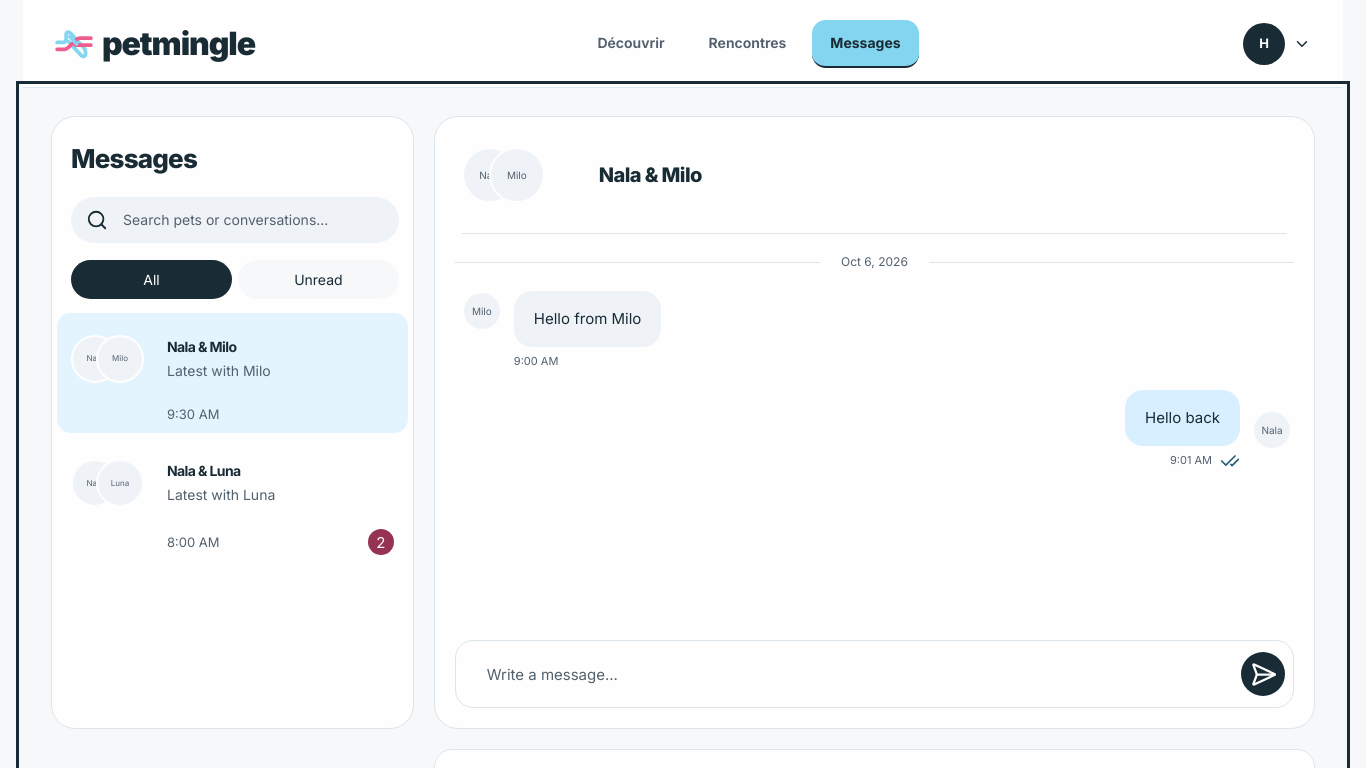
Test: Messaging persisted reads › prevents duplicate submissions while a send is pending
Expected: the text "Hello from Milo" is shown, [514,291,661,347]
Type "Only once" into the field labelled "Write a message" at (848, 674), box [464,650,1233,698]
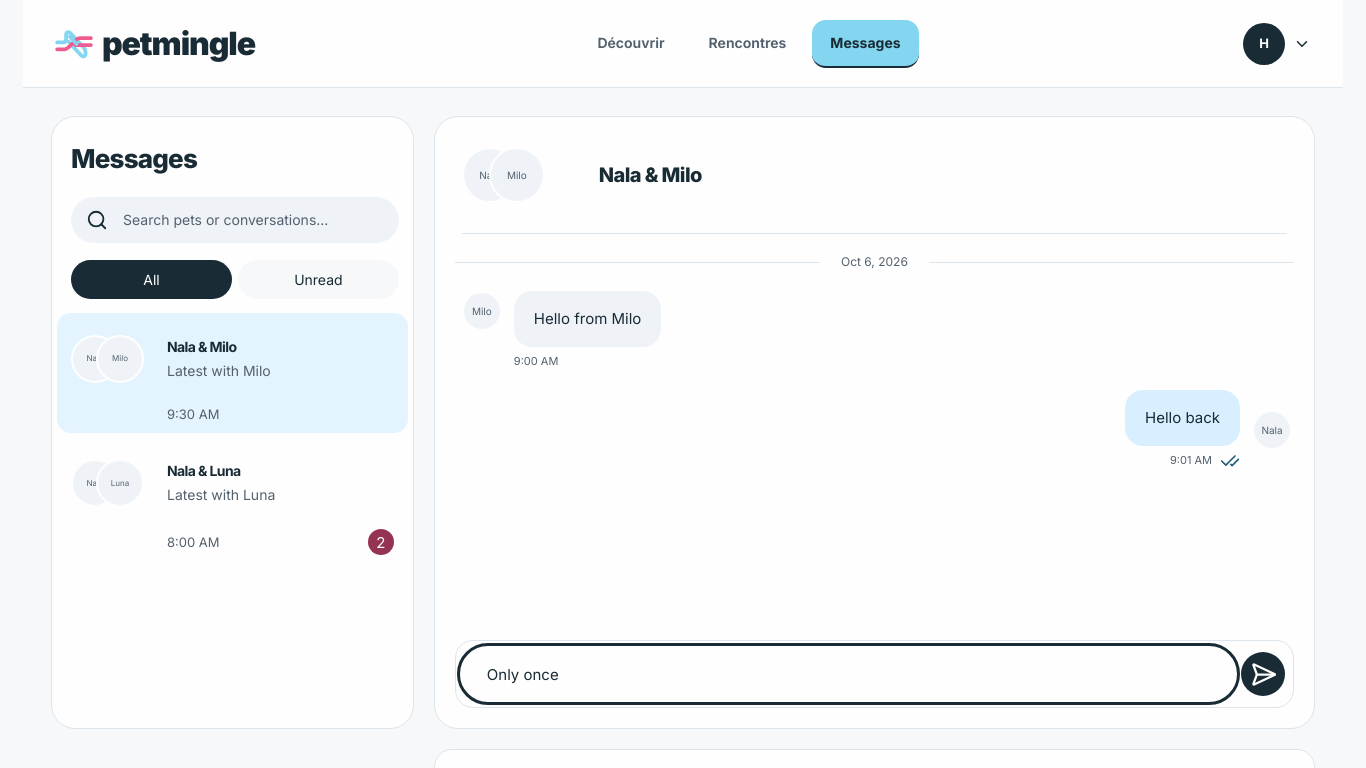
Click the button named "Send message" at (1263, 674), box [1241,652,1285,696]
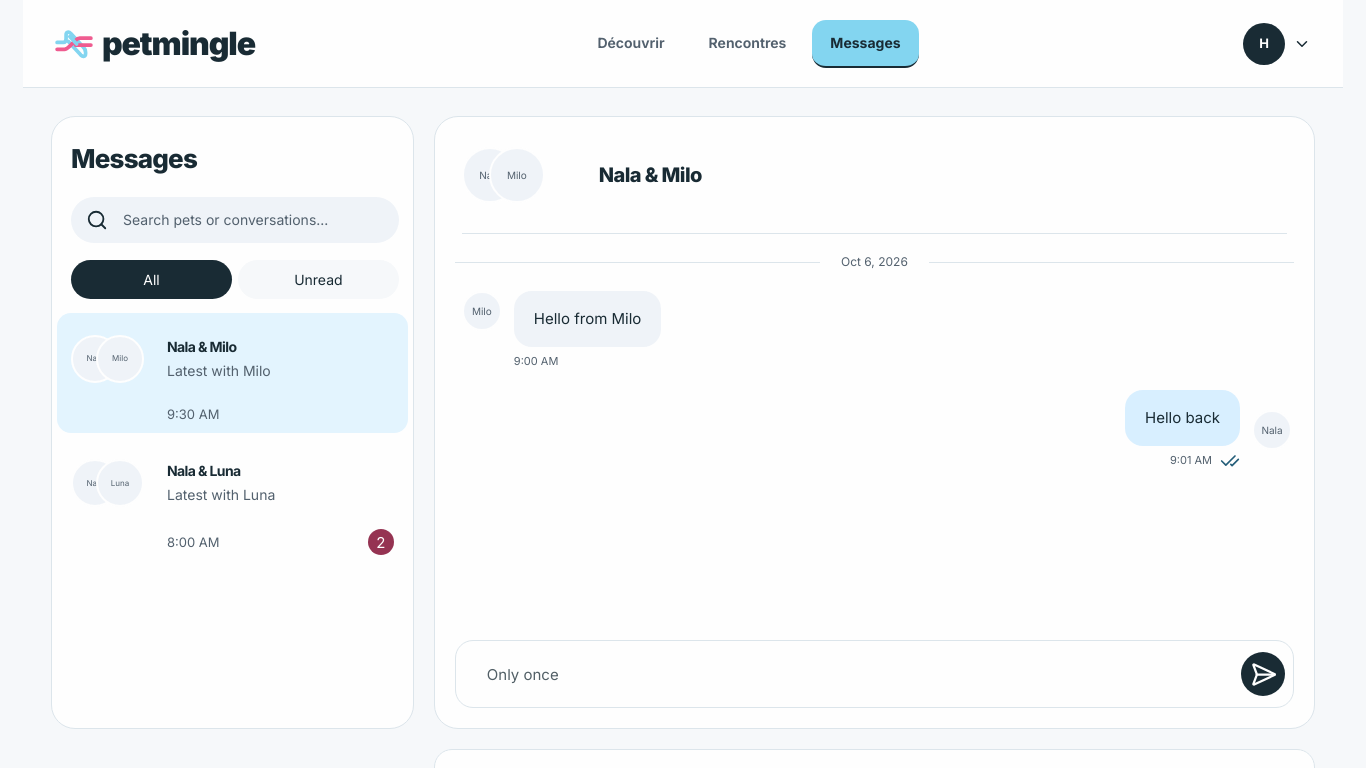
Click the button named "Sending message" at (1263, 674), box [1241,652,1285,696]
(page scrolled)
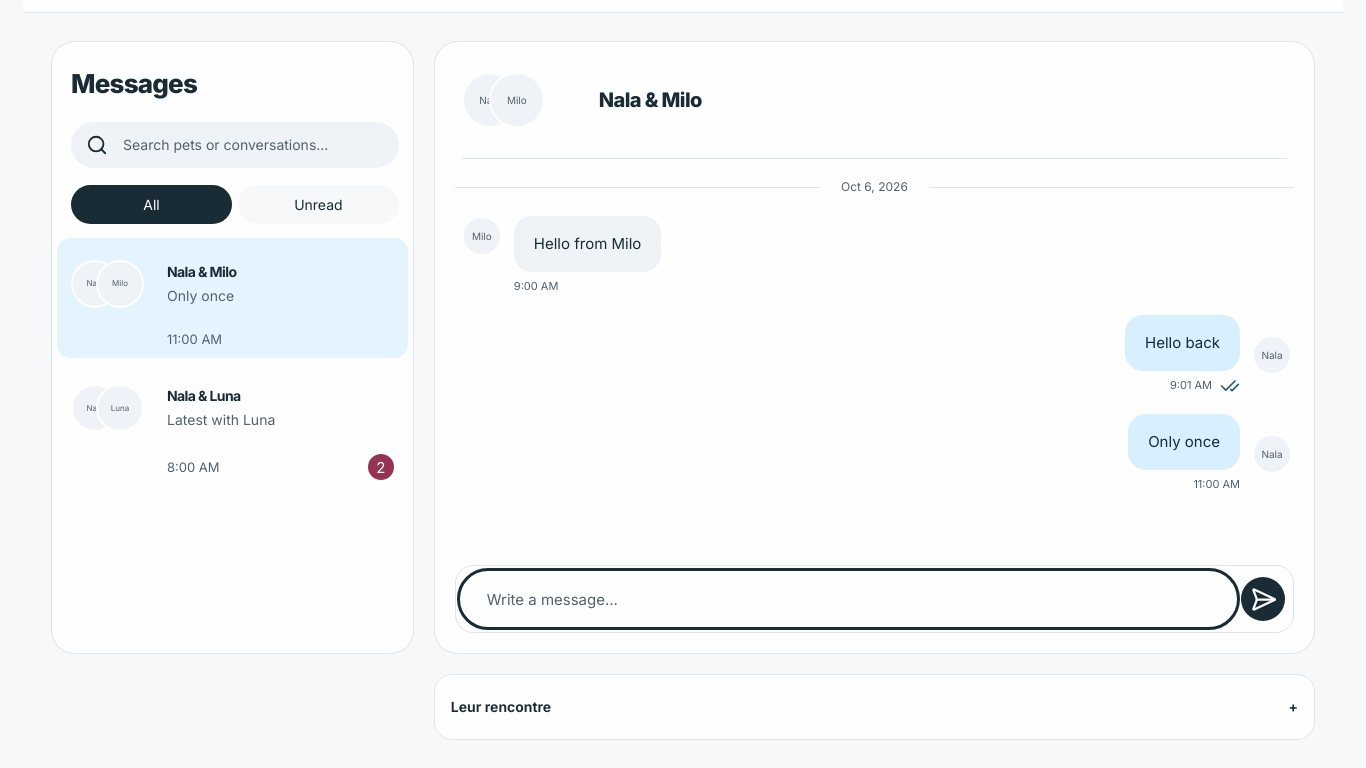
Expected: the text "Only once" below "9:01 AM" is shown, [1148,432,1220,451]
